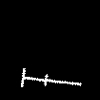double_crochet: (21, 68, 80, 86)
